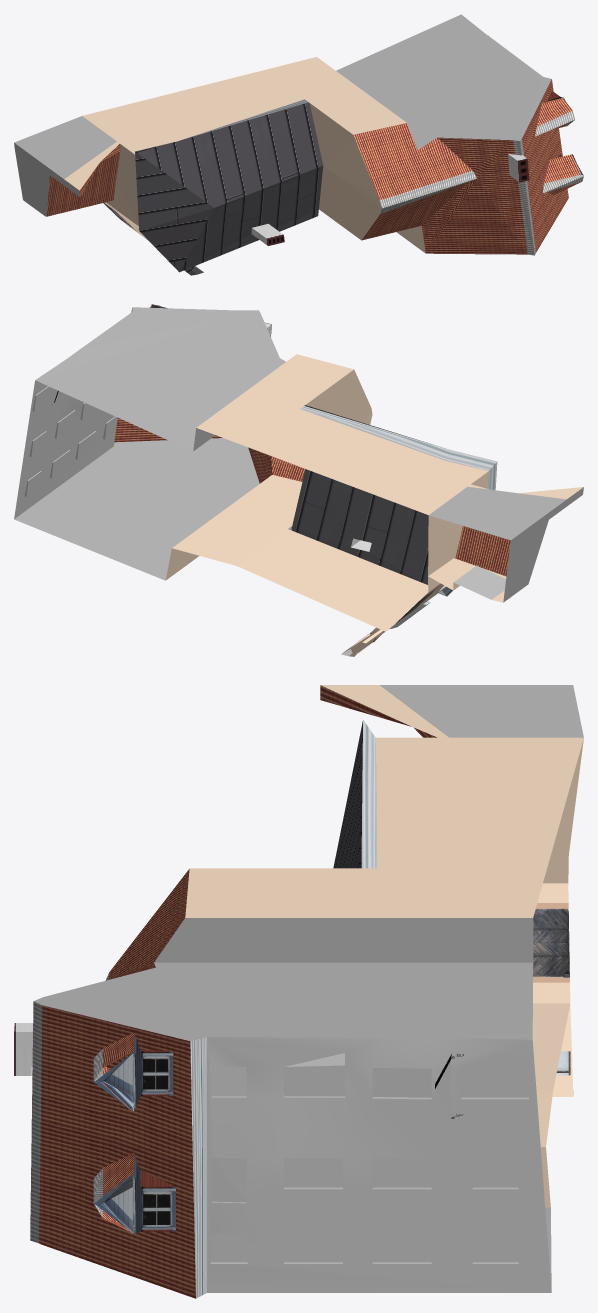
Rendered from Toom-Kooli_3-origo.obj.
3 renders of one model, top to bottom at view 1: azimuth 30°, elevation 25°; view 2: azimuth 150°, elevation 25°; view 3: azimuth 270°, elevation 25°, orthographic. The views are drawn at different scales.
Visible parts, largest first — view 1: Toom_Kooli_3; view 2: Toom_Kooli_3; view 3: Toom_Kooli_3.
Part boxes in pixels (x1=…): Toom_Kooli_3: x1=14, y1=14, x2=583, y2=275; Toom_Kooli_3: x1=14, y1=304, x2=583, y2=656; Toom_Kooli_3: x1=14, y1=685, x2=583, y2=1298.
Bounding box in the file's own units: 32.62 × 11.5 × 18.28.
